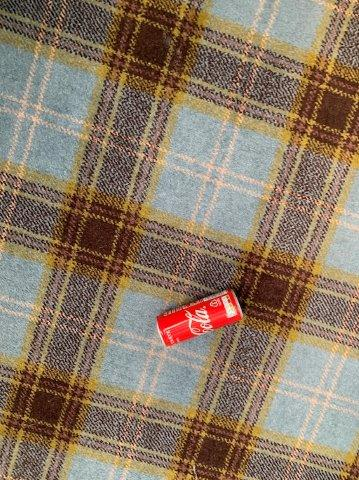kaleng: (157, 290, 242, 345)
